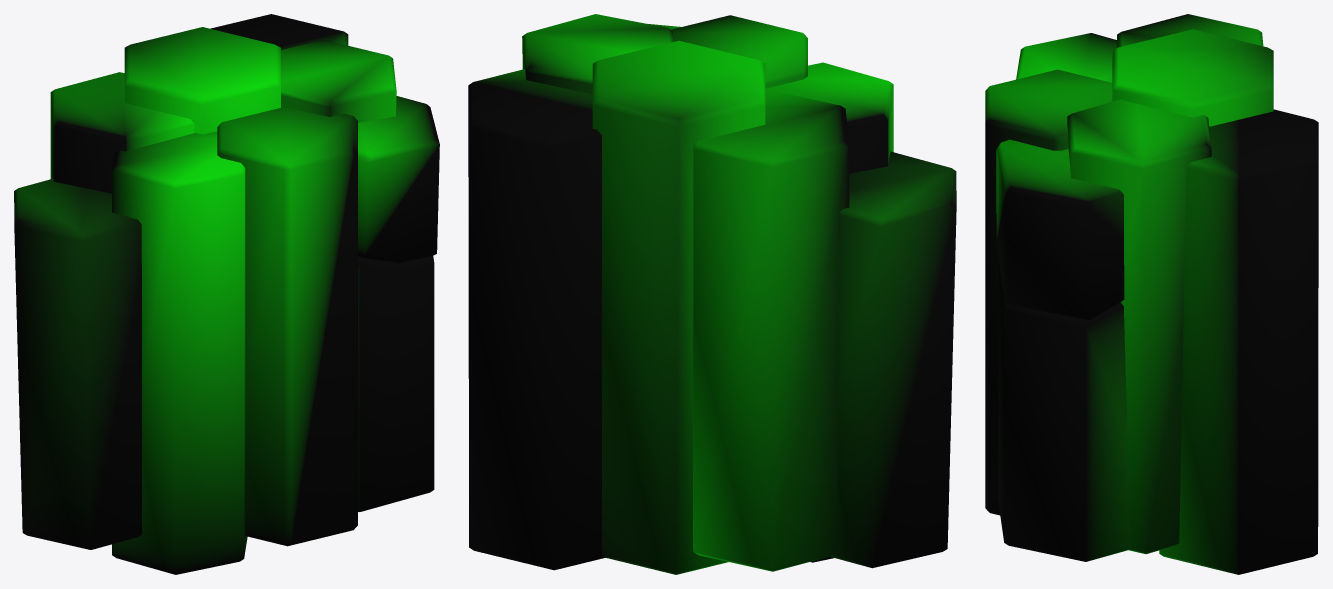
Rendered from SM_RockHexic_Rocks07.fbx.
The picture shows the model from 3 angles, left to right: view 1: azimuth 30°, elevation 25°; view 2: azimuth 150°, elevation 25°; view 3: azimuth 270°, elevation 25°; orthographic projection. The views are drawn at different scales.
Visible parts, largest first — view 1: SM_RockHexic_Rocks07; view 2: SM_RockHexic_Rocks07; view 3: SM_RockHexic_Rocks07.
Boxes of the visible parts, x1=… form: SM_RockHexic_Rocks07: x1=14, y1=14, x2=439, y2=574; SM_RockHexic_Rocks07: x1=468, y1=14, x2=956, y2=574; SM_RockHexic_Rocks07: x1=985, y1=14, x2=1318, y2=574.
Size of the model in its own units: 1271 by 896 by 1303.
